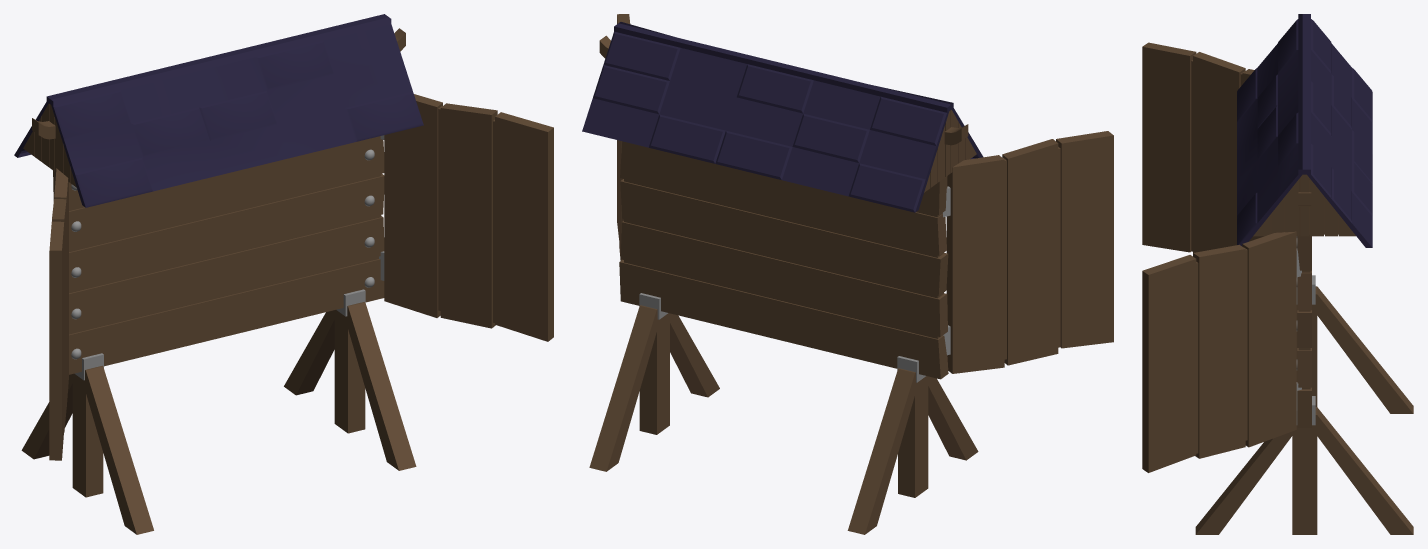
File: QuestBoard_RJ_16-11.fbx
3 renders of one model, left to right at view 1: azimuth 30°, elevation 25°; view 2: azimuth 150°, elevation 25°; view 3: azimuth 270°, elevation 25°, orthographic. The views are drawn at different scales.
Visible parts, largest first — view 1: Cube.018; view 2: Cube.018; view 3: Cube.018.
Part boxes in pixels (x1,y1,x2,y2): Cube.018: (14,14,553,534); Cube.018: (582,14,1113,534); Cube.018: (1142,14,1413,534).
Bounding box in the file's own units: 811 × 616 × 400.
